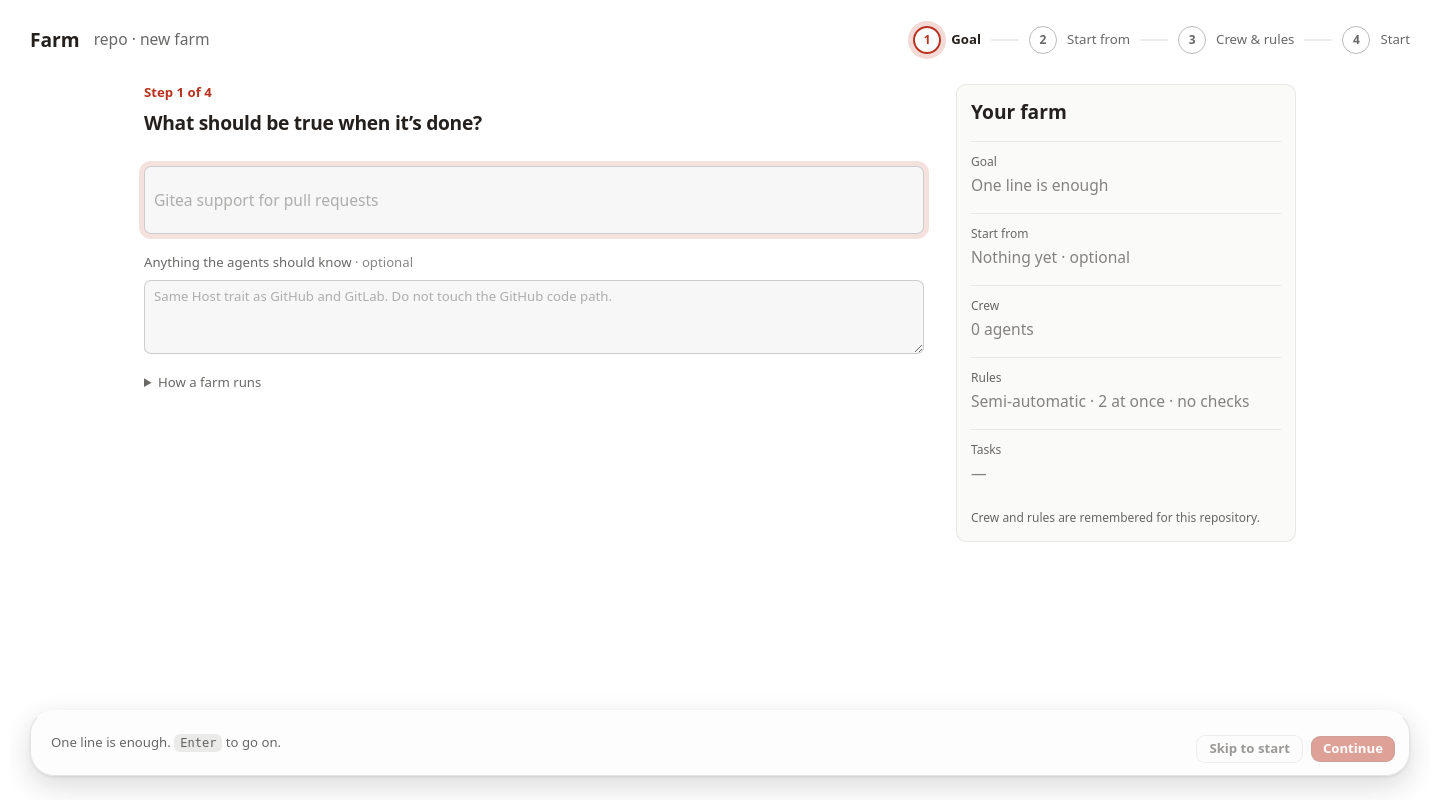
Test: Farm journey routes and actions › keeps planning disabled with no eligible planner
Type "Goal" into the field with class "goal".
click(534, 200); type("Goal")  # box [144,166,924,234]
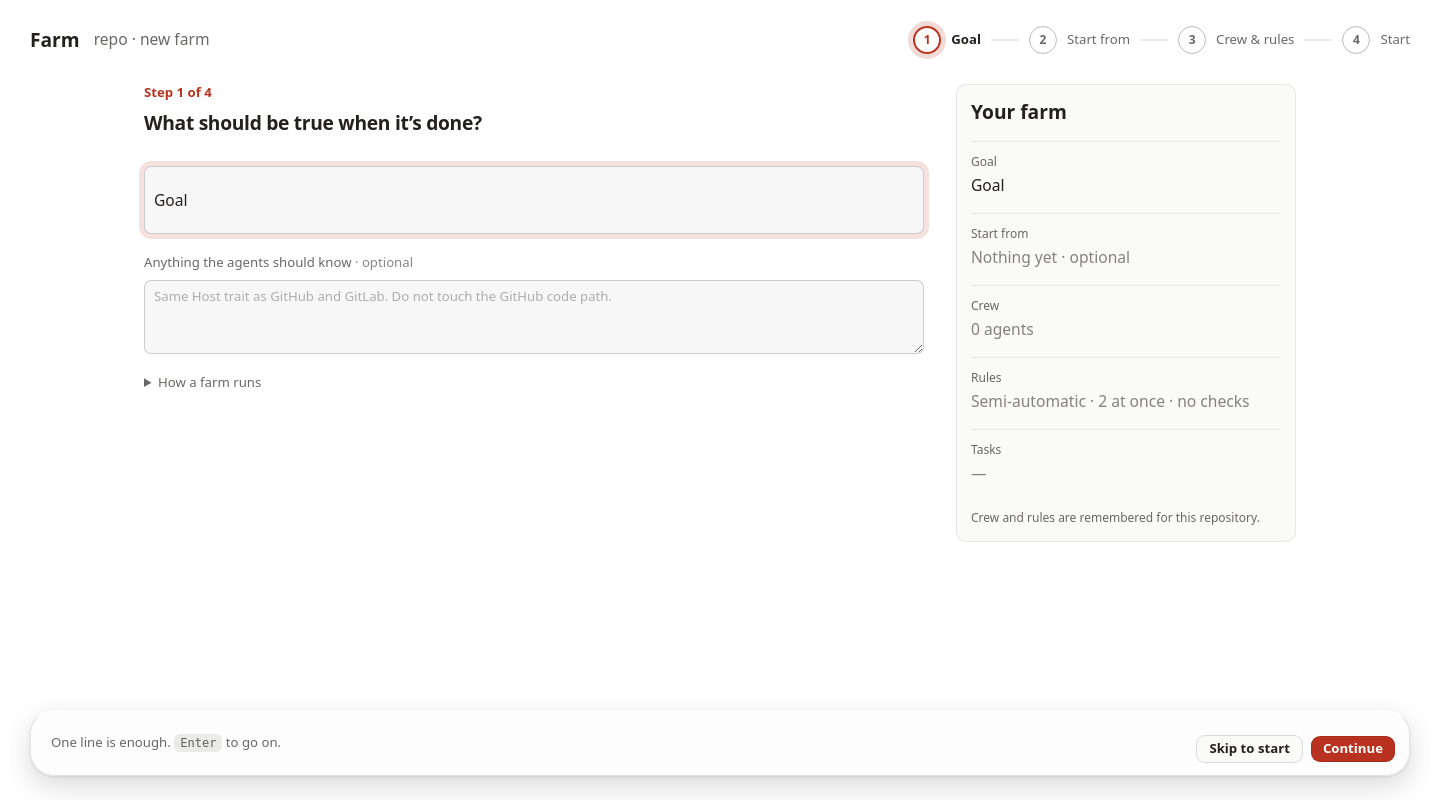
Click the button "Skip to start".
click(1250, 749)  # box [1196,735,1303,763]
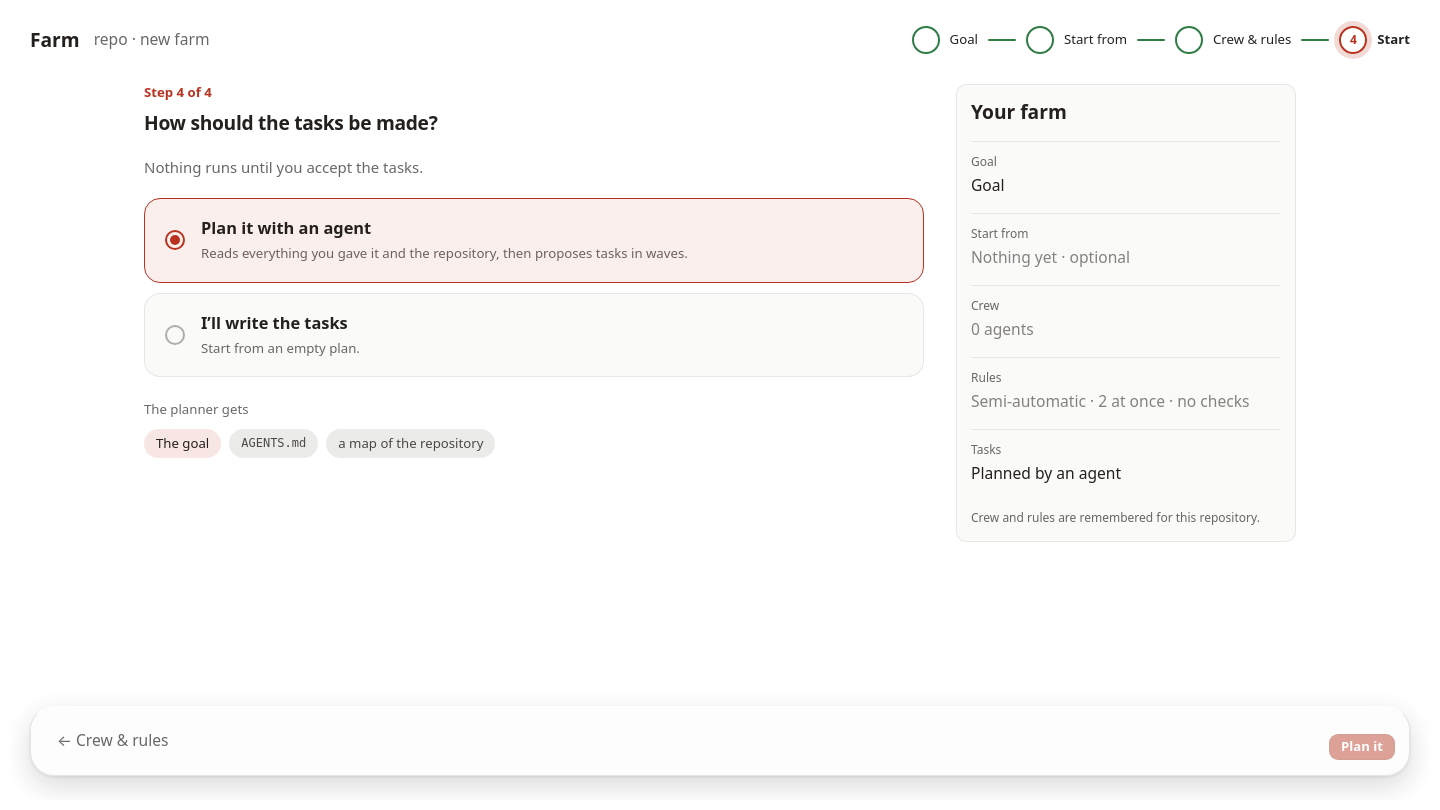
Now the button "Plan it" is disabled, box [1329,734,1395,760]
